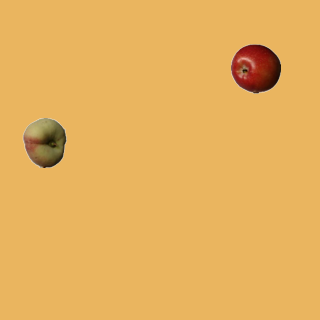Apple Braeburn: (230, 43, 280, 93)
Peach Flat: (19, 117, 69, 167)
